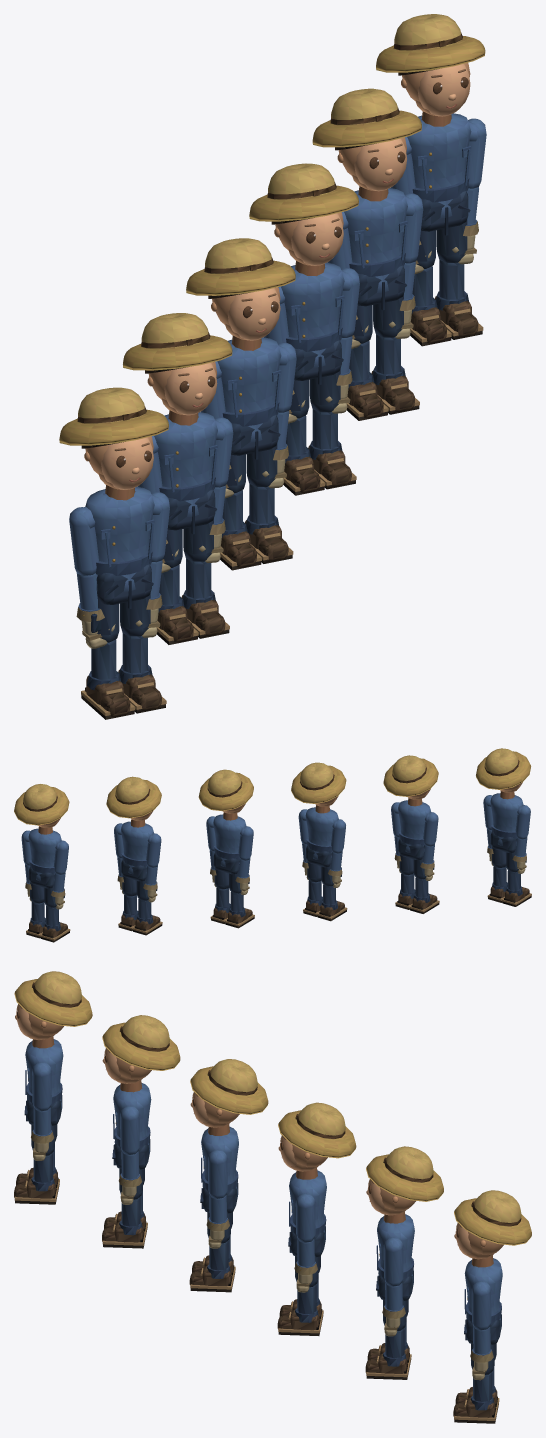
File: ba-idle-tq-before.glb
The picture shows the model from 3 angles, top to bottom: view 1: azimuth 30°, elevation 25°; view 2: azimuth 150°, elevation 25°; view 3: azimuth 270°, elevation 25°; orthographic projection. The views are drawn at different scales.
Visible parts, largest first — view 1: denimJacketTorso (×6), strawHat (×6), head (×6), leftShin (×6), rightShin (×6), trouserHips (×6), leftUpperArm (×6), leftThigh (×6), rightUpperArm, rightThigh; view 2: strawHat (×6), denimJacketTorso (×6), rightShin (×6), leftShin (×6), rightUpperArm (×6), trouserHips (×6), leftUpperArm (×6), leftThigh (×6); view 3: strawHat (×6), denimJacketTorso (×6), leftShin (×6), leftUpperArm (×6), head (×6).
Boxes of the visible parts, x1,y1,x2,y2 form: denimJacketTorso (×6): [85, 111, 471, 591]; strawHat (×6): [59, 14, 485, 445]; head (×6): [81, 63, 470, 489]; leftShin (×6): [118, 259, 483, 713]; rightShin (×6): [81, 266, 451, 719]; trouserHips (×6): [96, 191, 470, 608]; leftUpperArm (×6): [148, 118, 486, 562]; leftThigh (×6): [120, 219, 467, 636]; rightUpperArm: [69, 507, 98, 575]; rightThigh: [91, 597, 119, 642]; strawHat (×6): [14, 748, 531, 825]; denimJacketTorso (×6): [28, 791, 523, 881]; rightShin (×6): [40, 870, 531, 942]; leftShin (×6): [26, 866, 507, 938]; rightUpperArm (×6): [53, 805, 530, 874]; trouserHips (×6): [28, 831, 516, 888]; leftUpperArm (×6): [21, 795, 493, 865]; leftThigh (×6): [30, 847, 506, 903]; strawHat (×6): [14, 971, 531, 1245]; denimJacketTorso (×6): [25, 1036, 502, 1329]; leftShin (×6): [14, 1153, 497, 1423]; leftUpperArm (×6): [32, 1062, 491, 1330]; head (×6): [15, 1004, 503, 1259].
Size of what is drawn, in the model's own units: 5.95 by 2.41 by 5.15.
